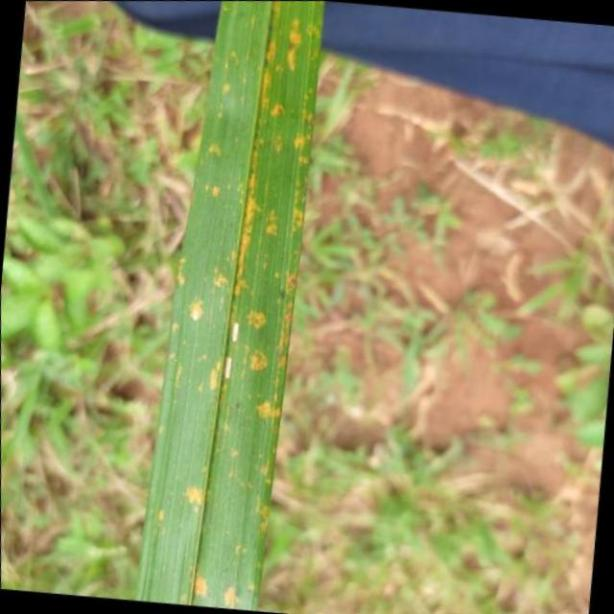Kalium: (133, 0, 329, 614)
